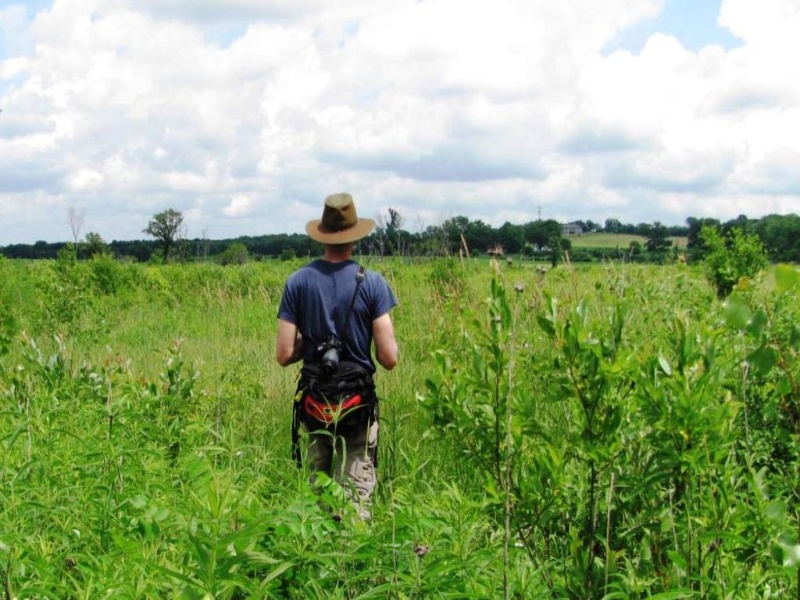person: (280, 179, 400, 514)
